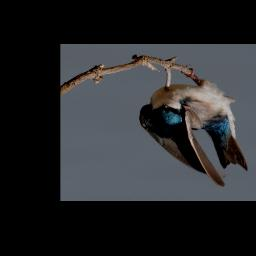Swallow: (138, 65, 250, 188)
